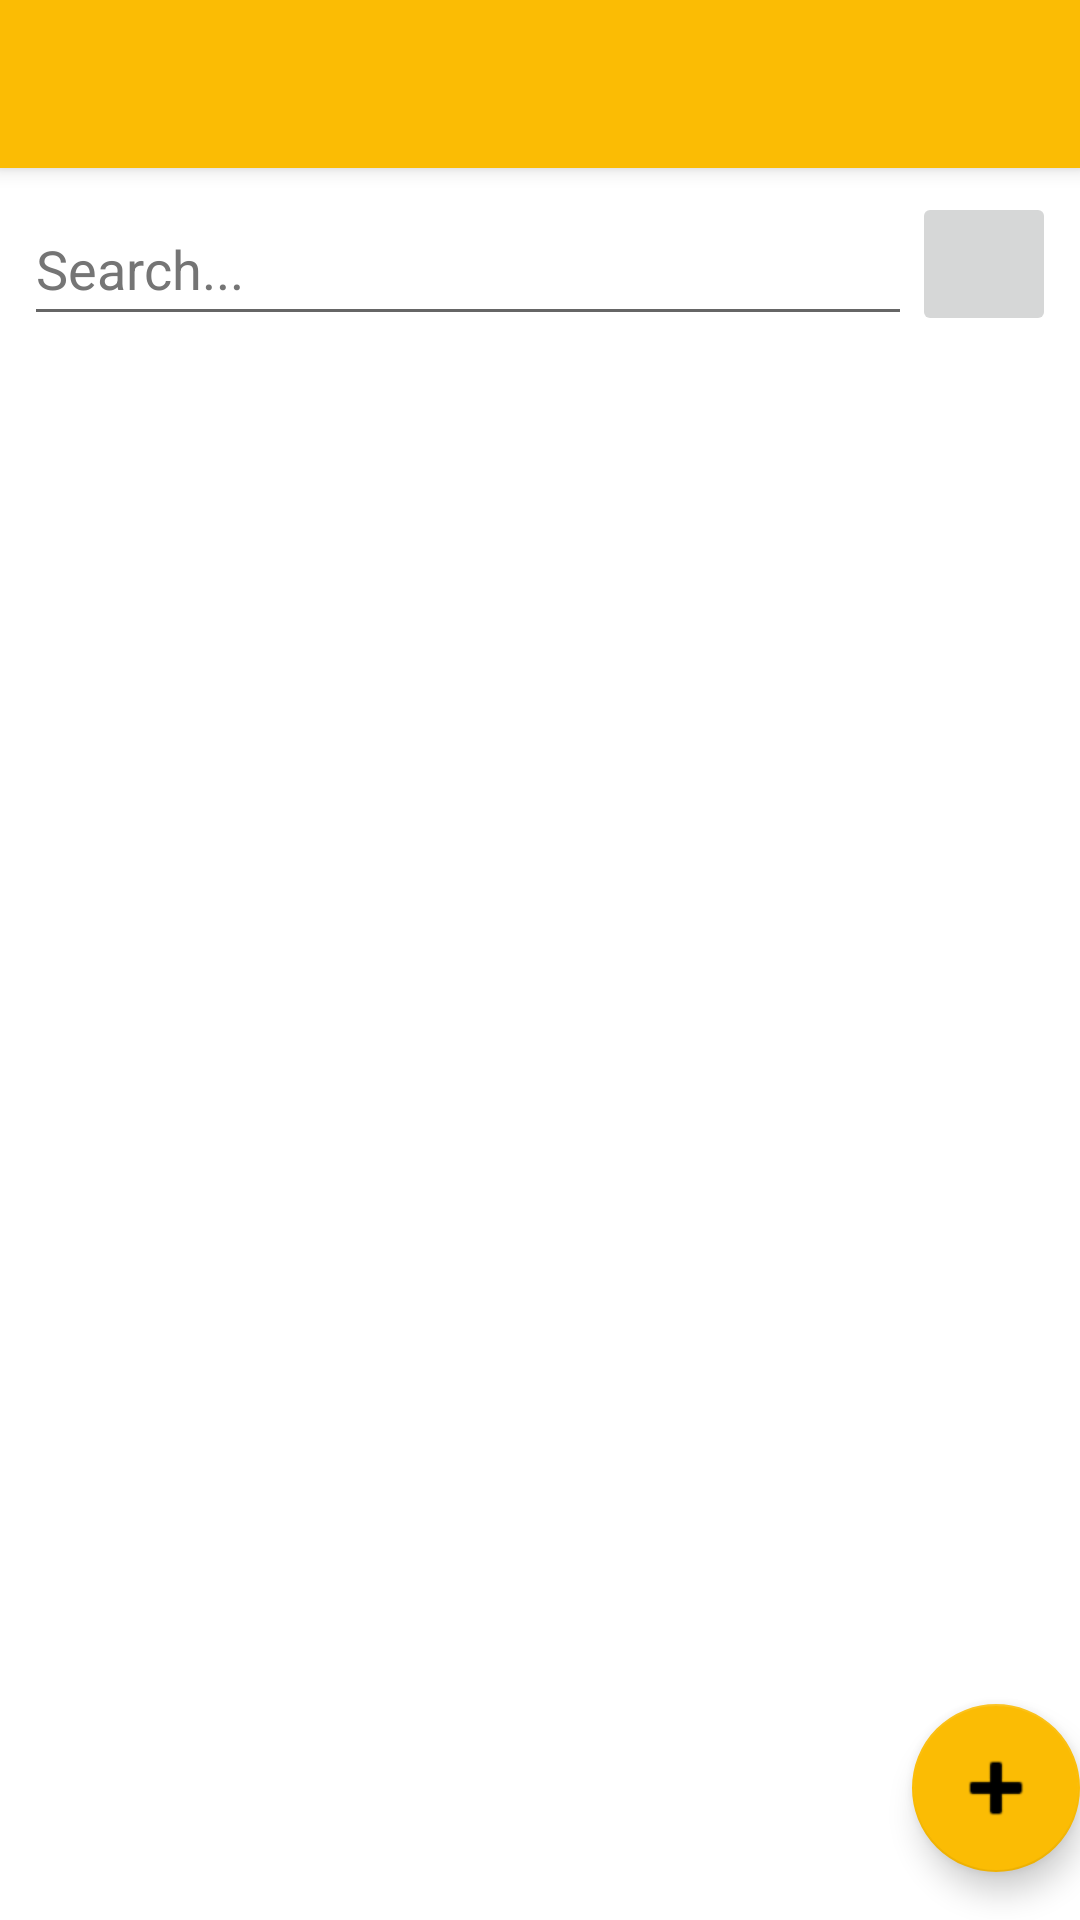

Where icons sit on this 1080x1920 app screen, as rect(x1, y1, x2, y2):
add note floating button: rect(912, 1704, 1080, 1872)
